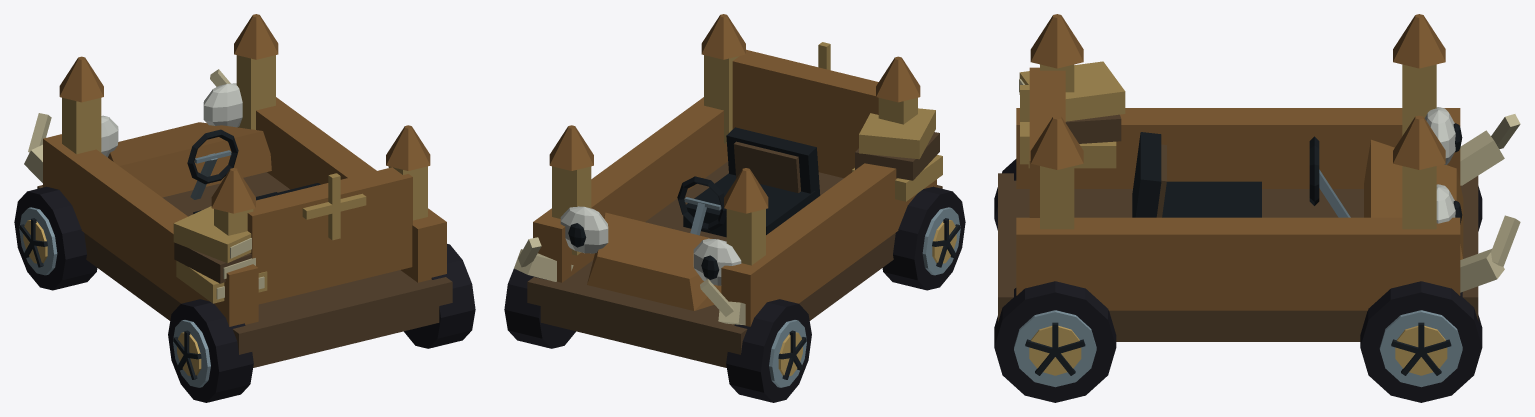
The model's file is kart.glb.
3 views of the same model, side by side, from view 1: azimuth 30°, elevation 25°; view 2: azimuth 150°, elevation 25°; view 3: azimuth 270°, elevation 25° (orthographic). The views are drawn at different scales.
Visible parts, largest first — view 1: identity-reliquary-reliquary-arched-stone-chest, wheel-rear-left, wheel-front-left, identity-reliquary-motif-books, wheel-rear-right, identity-reliquary-motif-eyes, identity-reliquary-driver-cockpit, identity-reliquary-motif-tusks; view 2: identity-reliquary-reliquary-arched-stone-chest, identity-reliquary-driver-cockpit, wheel-front-left, wheel-rear-left, identity-reliquary-motif-books, identity-reliquary-motif-eyes, wheel-front-right, identity-reliquary-motif-tusks; view 3: identity-reliquary-reliquary-arched-stone-chest, wheel-rear-right, wheel-front-right, identity-reliquary-driver-cockpit, identity-reliquary-motif-books, identity-reliquary-motif-tusks, identity-reliquary-motif-eyes.
Part boxes in pixels (<box>): identity-reliquary-reliquary-arched-stone-chest: <box>37,14,452,367</box>; wheel-rear-left: <box>168,299,253,402</box>; wheel-front-left: <box>14,186,97,290</box>; identity-reliquary-motif-books: <box>173,206,267,303</box>; wheel-rear-right: <box>404,244,475,348</box>; identity-reliquary-motif-eyes: <box>101,83,242,157</box>; identity-reliquary-driver-cockpit: <box>187,129,320,213</box>; identity-reliquary-motif-tusks: <box>24,69,230,182</box>; identity-reliquary-reliquary-arched-stone-chest: <box>527,14,942,367</box>; identity-reliquary-driver-cockpit: <box>677,127,820,237</box>; wheel-front-left: <box>726,299,811,402</box>; wheel-rear-left: <box>882,186,965,290</box>; identity-reliquary-motif-books: <box>852,108,942,201</box>; identity-reliquary-motif-eyes: <box>560,206,741,285</box>; wheel-front-right: <box>504,268,575,348</box>; identity-reliquary-motif-tusks: <box>514,237,745,325</box>; identity-reliquary-reliquary-arched-stone-chest: <box>998,14,1478,341</box>; wheel-rear-right: <box>994,281,1116,402</box>; wheel-front-right: <box>1360,281,1482,402</box>; identity-reliquary-driver-cockpit: <box>1132,132,1350,217</box>; identity-reliquary-motif-books: <box>1019,61,1125,168</box>; identity-reliquary-motif-tusks: <box>1460,114,1520,292</box>; identity-reliquary-motif-eyes: <box>1425,107,1462,224</box>.
Size of the model in its own units: 1.97 by 1.51 by 2.76.
